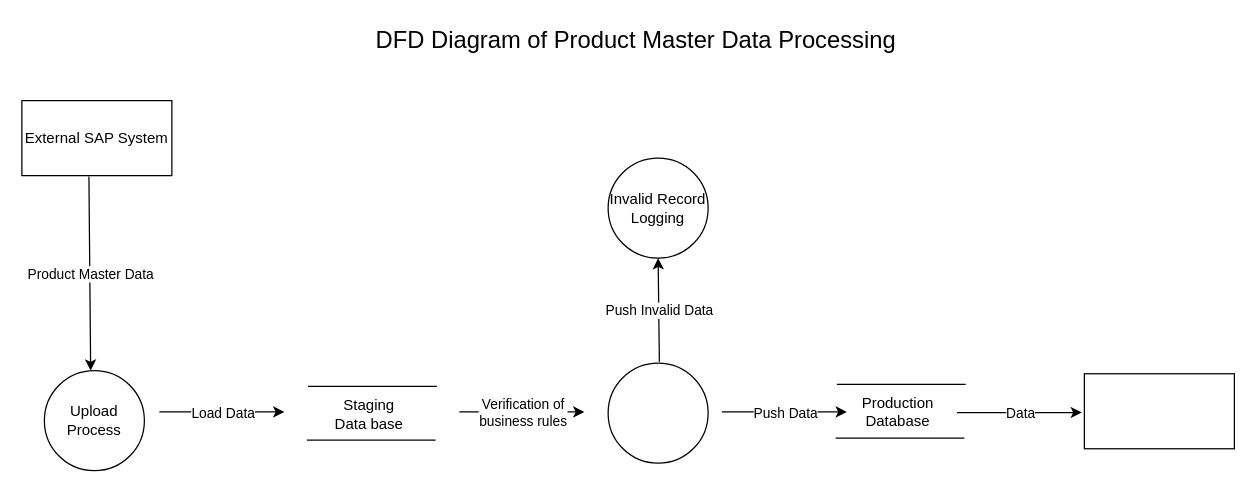
The diagram is 1256 pixels wide and 493 high, and some of its shapes have lost their labels. Each missing label, with the centre of its shape:
Application: pixel 1158 410
Master Data Processing: pixel 657 412
